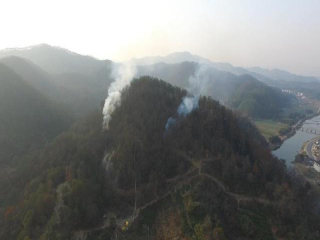smoke: (165, 64, 211, 136), (96, 51, 136, 130)
